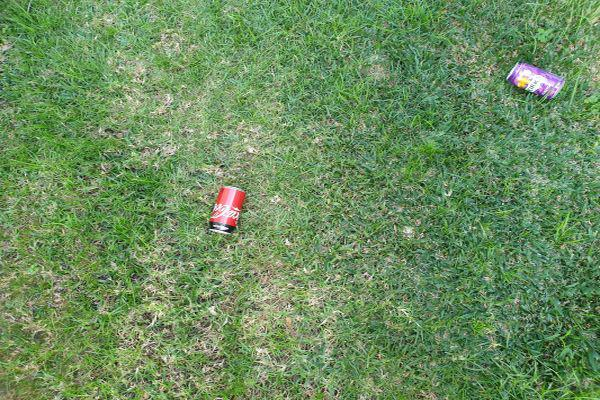Plastic Bottle: (505, 61, 566, 101), (208, 185, 246, 237)
